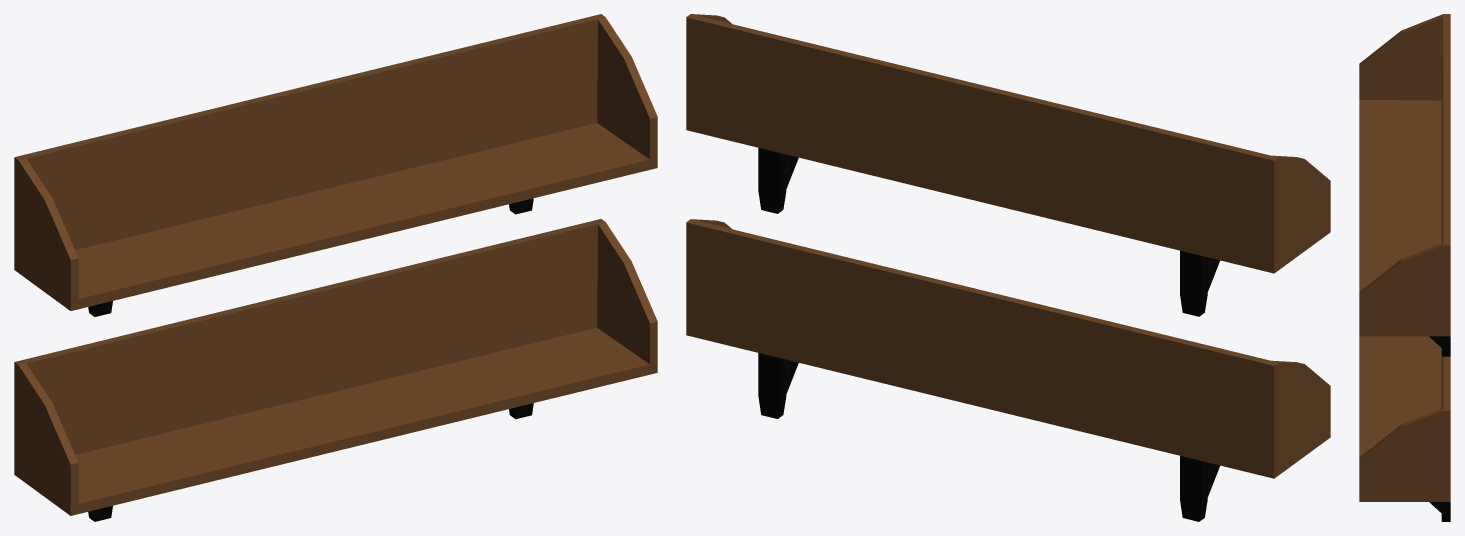
The model's file is Estantes_Vacios.fbx.
3 views of the same model, side by side, from view 1: azimuth 30°, elevation 25°; view 2: azimuth 150°, elevation 25°; view 3: azimuth 270°, elevation 25° (orthographic). The views are drawn at different scales.
Visible parts, largest first — view 1: Estantes_Vacio; view 2: Estantes_Vacio; view 3: Estantes_Vacio.
Part boxes in pixels (x1=…): Estantes_Vacio: x1=14, y1=14, x2=657, y2=521; Estantes_Vacio: x1=686, y1=14, x2=1330, y2=521; Estantes_Vacio: x1=1359, y1=14, x2=1450, y2=521.
Bounding box in the file's own units: 150 × 92.5 × 25.
